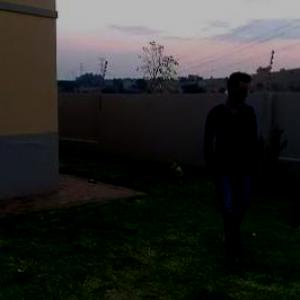follow: (200, 66, 250, 244)
